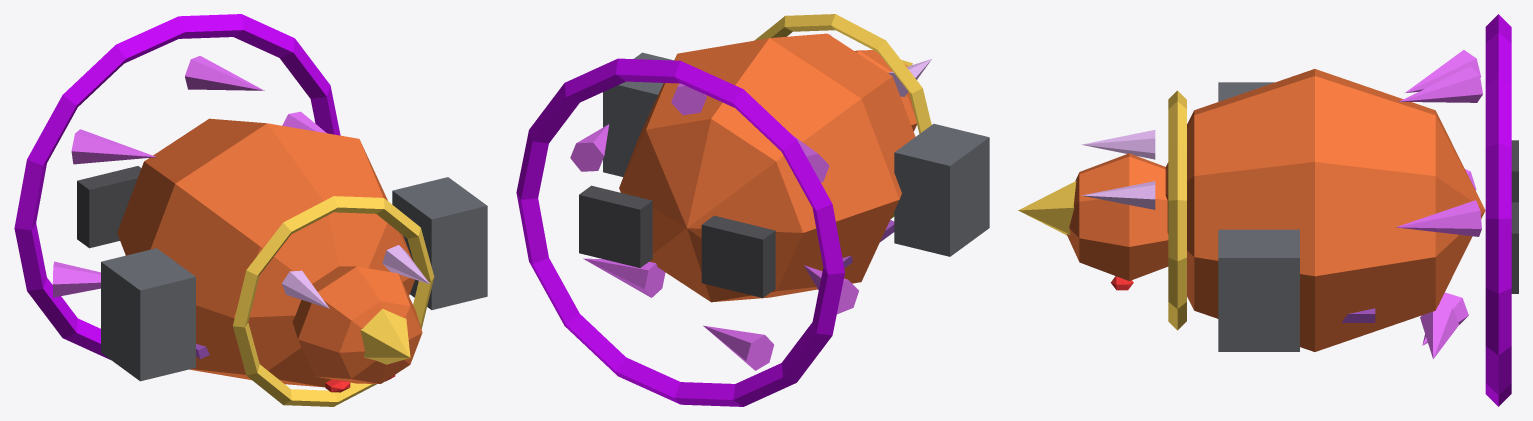
File: TD_Enemy_MiniBoss_Chaos.fbx
3 renders of one model, left to right at view 1: azimuth 30°, elevation 25°; view 2: azimuth 150°, elevation 25°; view 3: azimuth 270°, elevation 25°, orthographic. The views are drawn at different scales.
Visible parts, largest first — view 1: TD_Enemy_MiniBoss_Chaos_Body, TD_Enemy_MiniBoss_Chaos_ChaosAura_Ring, TD_Enemy_MiniBoss_Chaos_ShoulderPlate_Left, TD_Enemy_MiniBoss_Chaos_Head, TD_Enemy_MiniBoss_Chaos_ShoulderPlate_Right, TD_Enemy_MiniBoss_Chaos_EliteGoldRing, TD_Enemy_MiniBoss_Chaos_Foot_Left, TD_Enemy_MiniBoss_Chaos_EliteCrownPoint, TD_Enemy_MiniBoss_Chaos_ChaosFlameWisp_03, TD_Enemy_MiniBoss_Chaos_ChaosFlameWisp_02, TD_Enemy_MiniBoss_Chaos_ChaosFlameWisp_04, TD_Enemy_MiniBoss_Chaos_ChaosEnergySpike_01 (+2 smaller); view 2: TD_Enemy_MiniBoss_Chaos_Body, TD_Enemy_MiniBoss_Chaos_ChaosAura_Ring, TD_Enemy_MiniBoss_Chaos_ShoulderPlate_Left, TD_Enemy_MiniBoss_Chaos_Foot_Left, TD_Enemy_MiniBoss_Chaos_Foot_Right, TD_Enemy_MiniBoss_Chaos_ShoulderPlate_Right, TD_Enemy_MiniBoss_Chaos_EliteGoldRing, TD_Enemy_MiniBoss_Chaos_ChaosFlameWisp_05, TD_Enemy_MiniBoss_Chaos_ChaosFlameWisp_06, TD_Enemy_MiniBoss_Chaos_ChaosFlameWisp_01, TD_Enemy_MiniBoss_Chaos_ChaosFlameWisp_02, TD_Enemy_MiniBoss_Chaos_ChaosFlameWisp_04 (+2 smaller); view 3: TD_Enemy_MiniBoss_Chaos_Body, TD_Enemy_MiniBoss_Chaos_ChaosAura_Ring, TD_Enemy_MiniBoss_Chaos_ShoulderPlate_Right, TD_Enemy_MiniBoss_Chaos_Head, TD_Enemy_MiniBoss_Chaos_EliteGoldRing, TD_Enemy_MiniBoss_Chaos_ChaosFlameWisp_02, TD_Enemy_MiniBoss_Chaos_ChaosFlameWisp_01, TD_Enemy_MiniBoss_Chaos_EliteCrownPoint, TD_Enemy_MiniBoss_Chaos_ChaosFlameWisp_06, TD_Enemy_MiniBoss_Chaos_ChaosEnergySpike_01, TD_Enemy_MiniBoss_Chaos_ChaosEnergySpike_02, TD_Enemy_MiniBoss_Chaos_ChaosFlameWisp_03 (+4 smaller).
Boxes of the visible parts, left/top/right/bottom form: TD_Enemy_MiniBoss_Chaos_Body: left=117, top=118, right=414, bottom=387; TD_Enemy_MiniBoss_Chaos_ChaosAura_Ring: left=14, top=14, right=340, bottom=359; TD_Enemy_MiniBoss_Chaos_ShoulderPlate_Left: left=101, top=248, right=195, bottom=381; TD_Enemy_MiniBoss_Chaos_Head: left=292, top=266, right=422, bottom=383; TD_Enemy_MiniBoss_Chaos_ShoulderPlate_Right: left=392, top=177, right=487, bottom=309; TD_Enemy_MiniBoss_Chaos_EliteGoldRing: left=233, top=196, right=434, bottom=406; TD_Enemy_MiniBoss_Chaos_Foot_Left: left=77, top=166, right=141, bottom=248; TD_Enemy_MiniBoss_Chaos_EliteCrownPoint: left=360, top=308, right=410, bottom=364; TD_Enemy_MiniBoss_Chaos_ChaosFlameWisp_03: left=71, top=129, right=156, bottom=164; TD_Enemy_MiniBoss_Chaos_ChaosFlameWisp_02: left=185, top=56, right=264, bottom=90; TD_Enemy_MiniBoss_Chaos_ChaosFlameWisp_04: left=52, top=261, right=100, bottom=297; TD_Enemy_MiniBoss_Chaos_ChaosEnergySpike_01: left=282, top=270, right=329, bottom=308; TD_Enemy_MiniBoss_Chaos_Body: left=619, top=33, right=915, bottom=302; TD_Enemy_MiniBoss_Chaos_ChaosAura_Ring: left=516, top=58, right=844, bottom=406; TD_Enemy_MiniBoss_Chaos_ShoulderPlate_Left: left=894, top=124, right=989, bottom=256; TD_Enemy_MiniBoss_Chaos_Foot_Left: left=701, top=215, right=775, bottom=297; TD_Enemy_MiniBoss_Chaos_Foot_Right: left=579, top=185, right=652, bottom=267; TD_Enemy_MiniBoss_Chaos_ShoulderPlate_Right: left=603, top=52, right=673, bottom=176; TD_Enemy_MiniBoss_Chaos_EliteGoldRing: left=754, top=14, right=931, bottom=218; TD_Enemy_MiniBoss_Chaos_ChaosFlameWisp_05: left=703, top=325, right=773, bottom=370; TD_Enemy_MiniBoss_Chaos_ChaosFlameWisp_06: left=583, top=258, right=665, bottom=297; TD_Enemy_MiniBoss_Chaos_ChaosFlameWisp_01: left=570, top=124, right=609, bottom=171; TD_Enemy_MiniBoss_Chaos_ChaosFlameWisp_02: left=671, top=83, right=706, bottom=115; TD_Enemy_MiniBoss_Chaos_ChaosFlameWisp_04: left=804, top=265, right=858, bottom=314; TD_Enemy_MiniBoss_Chaos_Body: left=1165, top=69, right=1485, bottom=351; TD_Enemy_MiniBoss_Chaos_ChaosAura_Ring: left=1485, top=14, right=1511, bottom=406; TD_Enemy_MiniBoss_Chaos_ShoulderPlate_Right: left=1218, top=229, right=1299, bottom=351; TD_Enemy_MiniBoss_Chaos_Head: left=1066, top=153, right=1168, bottom=280; TD_Enemy_MiniBoss_Chaos_EliteGoldRing: left=1168, top=90, right=1186, bottom=330; TD_Enemy_MiniBoss_Chaos_ChaosFlameWisp_02: left=1399, top=66, right=1482, bottom=102; TD_Enemy_MiniBoss_Chaos_ChaosFlameWisp_01: left=1396, top=200, right=1481, bottom=236; TD_Enemy_MiniBoss_Chaos_EliteCrownPoint: left=1018, top=181, right=1076, bottom=235; TD_Enemy_MiniBoss_Chaos_ChaosFlameWisp_06: left=1420, top=305, right=1458, bottom=358; TD_Enemy_MiniBoss_Chaos_ChaosEnergySpike_01: left=1082, top=130, right=1155, bottom=159; TD_Enemy_MiniBoss_Chaos_ChaosEnergySpike_02: left=1081, top=181, right=1155, bottom=209; TD_Enemy_MiniBoss_Chaos_ChaosFlameWisp_03: left=1405, top=50, right=1480, bottom=92.
Bounding box in the file's own units: 1.12 × 1.06 × 1.35.
